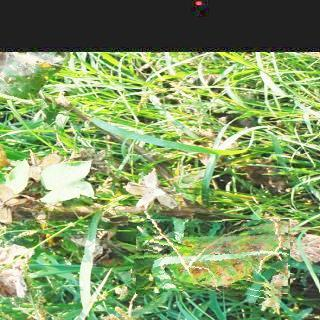blight: (134, 218, 290, 301)
